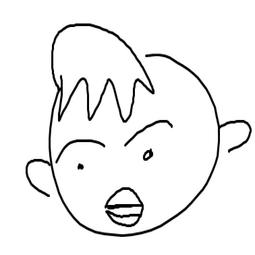ear: (216, 115, 254, 156), (18, 155, 53, 198)
eyebrow: (55, 138, 108, 164)
frowning_eyebrow: (124, 119, 175, 148)
open_mouth: (98, 184, 147, 229)
small_eye: (137, 147, 158, 162), (73, 163, 87, 170)
